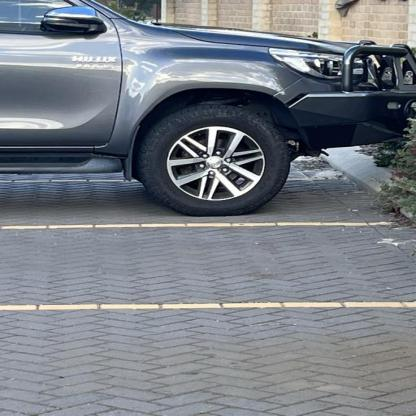Tire: (134, 102, 293, 217)
